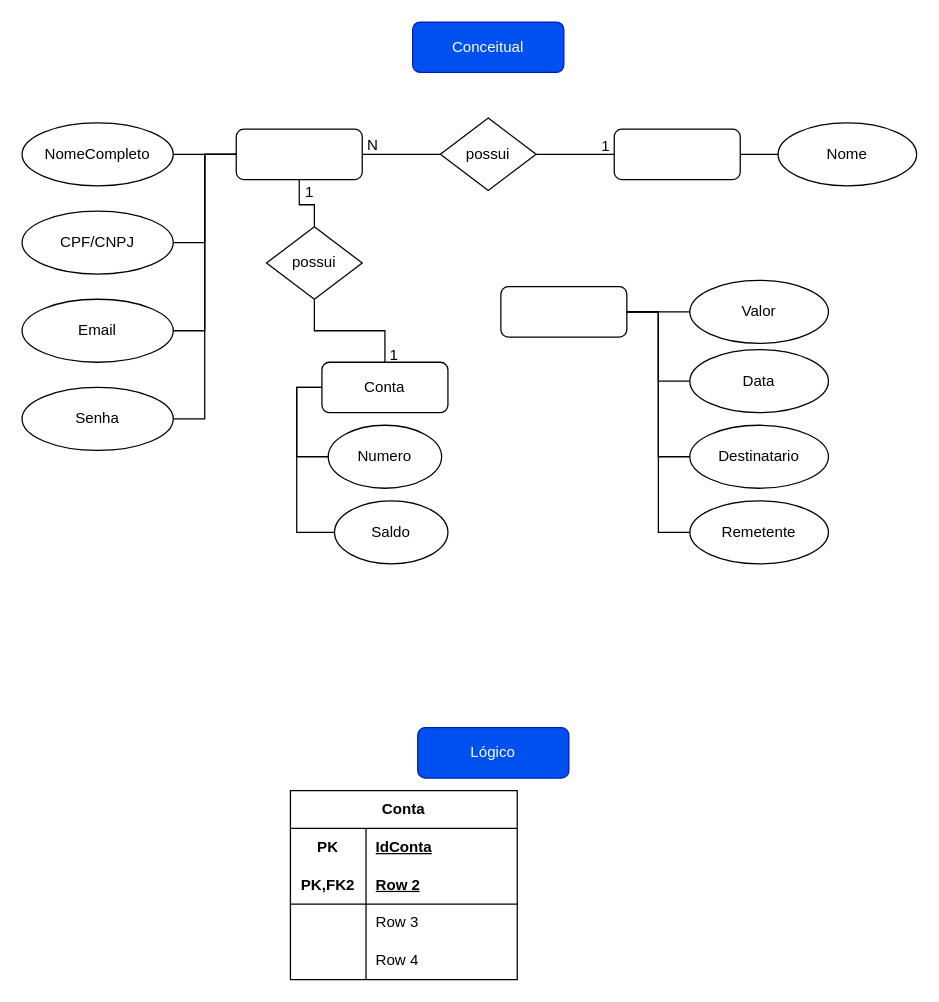
Some shapes in this 939 by 1002 pixel diagram are drawn without their labels. The shapes that lost their labels are listed below. From the top down, each one's centre as x and y in pixels, then its label:
At point (298, 154): "Usuario".
At point (676, 154): "TipoUsuario".
At point (563, 311): "Transferencia".
